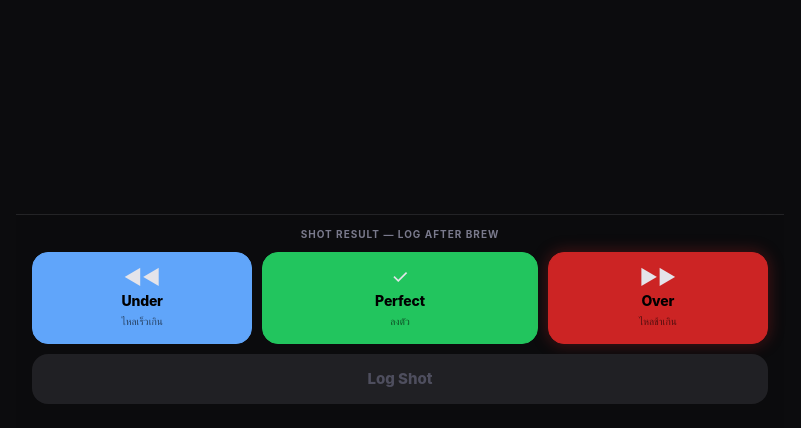
ShotFeedback — auto-calibration integration › card disappears after Accept
The width and height of the screenshot is (801, 428).
Click the text "Under": click(142, 300) [122,290,163,310]
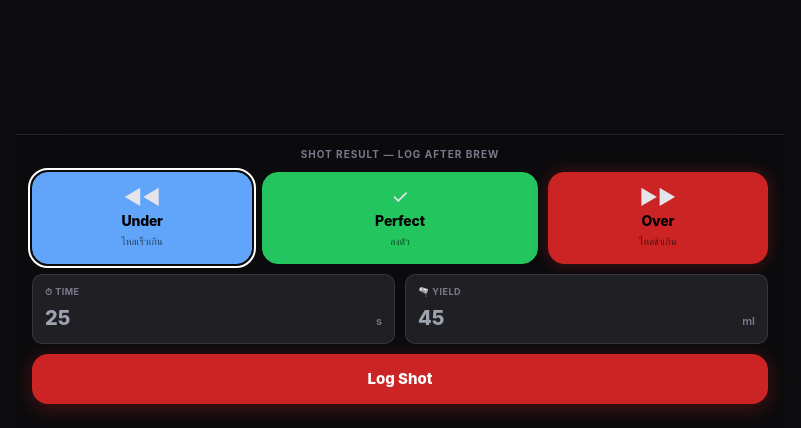
Click the button "Log Shot": click(400, 379) [32,354,768,404]
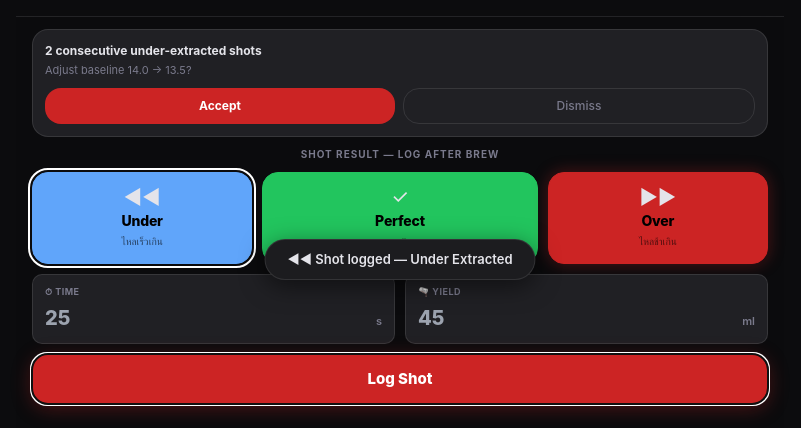
Result: the text "2 consecutive under-extracted shots" is shown at [45,42,262,58]
Click the button "Accept": click(220, 106) [45,88,395,124]
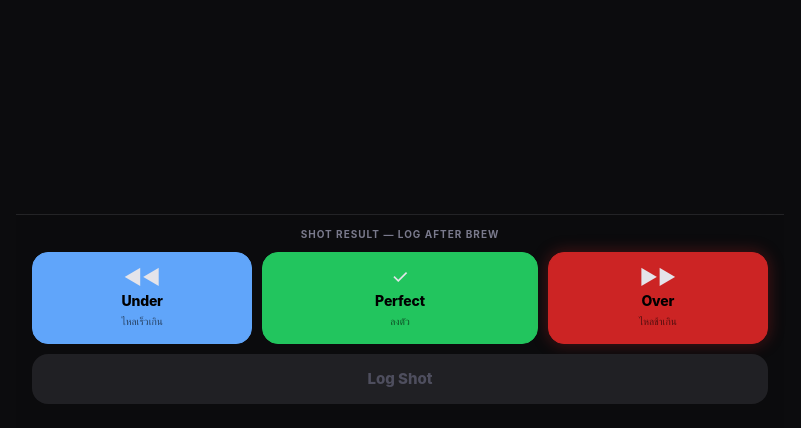
Result: the text "consecutive" is gone
